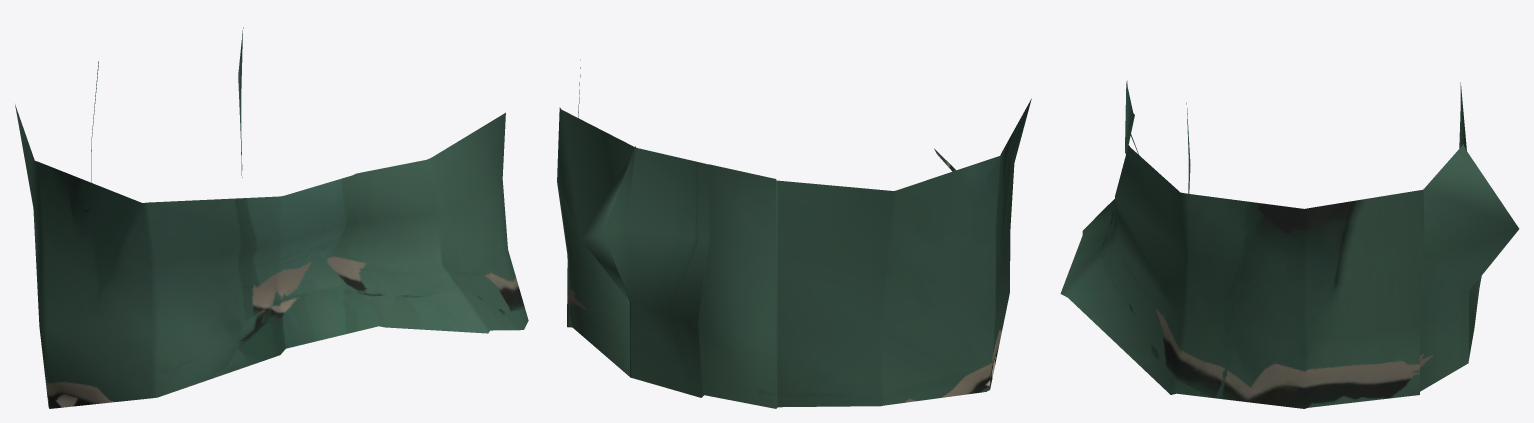
3 views of the same model, side by side, from view 1: azimuth 30°, elevation 25°; view 2: azimuth 150°, elevation 25°; view 3: azimuth 270°, elevation 25° (orthographic). The views are drawn at different scales.
Parts seen in each view (by area): view 1: geometry_0; view 2: geometry_0; view 3: geometry_0.
Boxes of the visible parts, box(x1,y1,x2,y2) form: geometry_0: box(15, 27, 528, 408); geometry_0: box(557, 59, 1031, 408); geometry_0: box(1060, 80, 1519, 408).
Size of the model in its own units: 0.4156 by 0.226 by 0.4094.
1 material, 1 textured.
